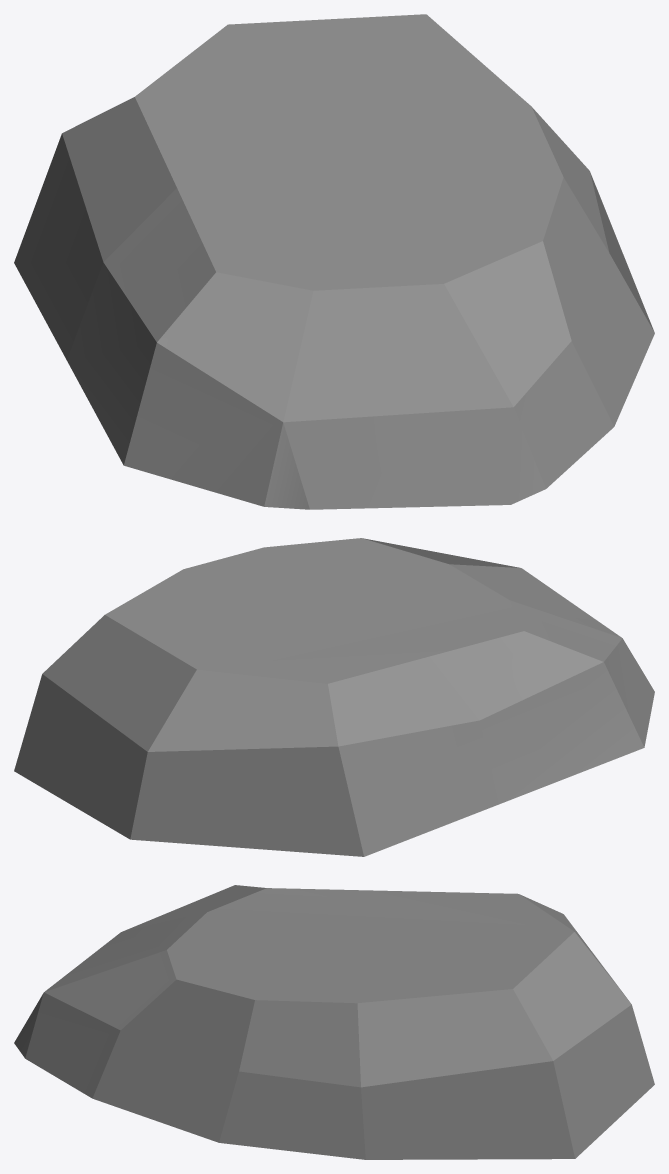
File: HardRock_28.fbx
3 views of the same model, one above another, from view 1: azimuth 30°, elevation 25°; view 2: azimuth 150°, elevation 25°; view 3: azimuth 270°, elevation 25° (orthographic). The views are drawn at different scales.
Parts seen in each view (by area): view 1: HardRock_28; view 2: HardRock_28; view 3: HardRock_28.
Part boxes in pixels (x1=…): HardRock_28: x1=14, y1=14, x2=654, y2=509; HardRock_28: x1=14, y1=538, x2=654, y2=856; HardRock_28: x1=14, y1=885, x2=654, y2=1159.
Bounding box in the file's own units: 176 × 56.1 × 226.
